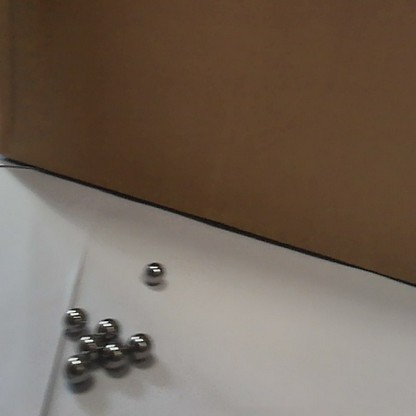ironball: (123, 330, 157, 364), (60, 352, 93, 386), (94, 311, 121, 344), (59, 304, 89, 333), (77, 334, 104, 366), (98, 340, 123, 372), (143, 259, 166, 288)
